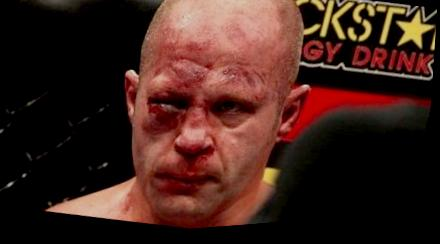Fire: (135, 50, 214, 137), (175, 145, 222, 181)
